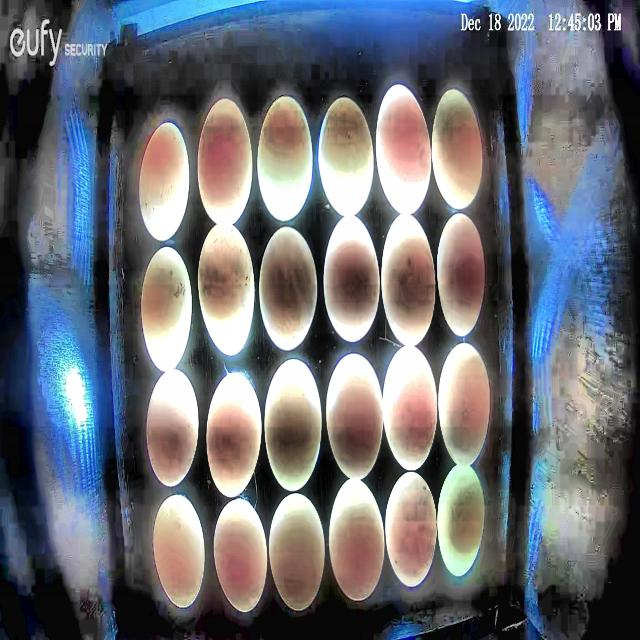UF: (264, 358, 322, 493), (324, 352, 384, 481), (375, 83, 433, 216), (198, 223, 256, 355), (258, 225, 318, 352), (381, 212, 437, 347), (323, 214, 381, 344), (196, 97, 254, 226), (257, 95, 314, 223), (206, 372, 262, 499), (329, 477, 386, 601), (383, 344, 438, 472), (318, 96, 375, 218), (269, 491, 326, 612), (140, 245, 193, 372), (213, 497, 269, 613), (146, 368, 200, 488), (438, 342, 490, 466), (152, 493, 206, 609), (139, 120, 190, 242), (432, 88, 483, 210), (386, 470, 438, 588), (437, 213, 486, 338), (438, 463, 486, 577)
